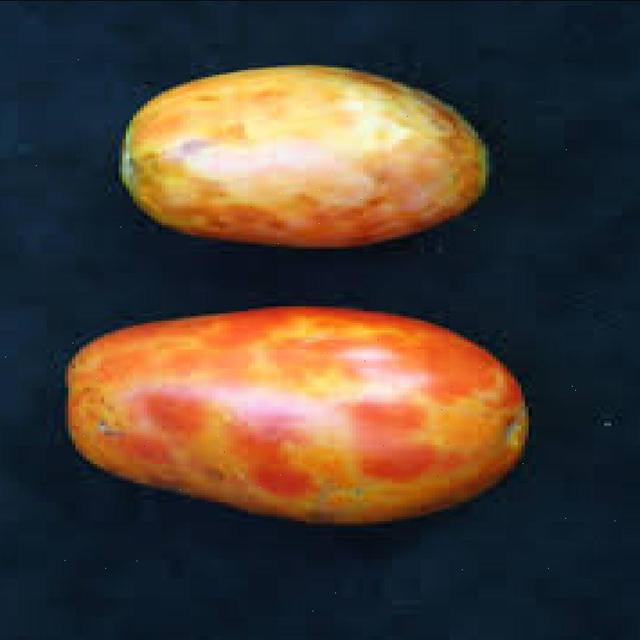Spotted wilt Virus Fruit: (70, 140, 199, 349)
